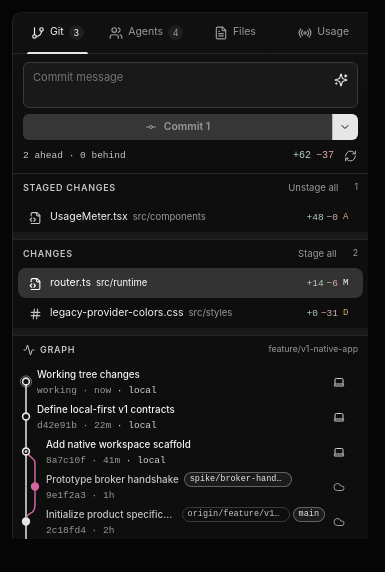
Test case: RightRail › shows every provider-reported Codex plan window without collapsing them
Click the tab "Usage" at (324, 32), box [279,12,368,53]
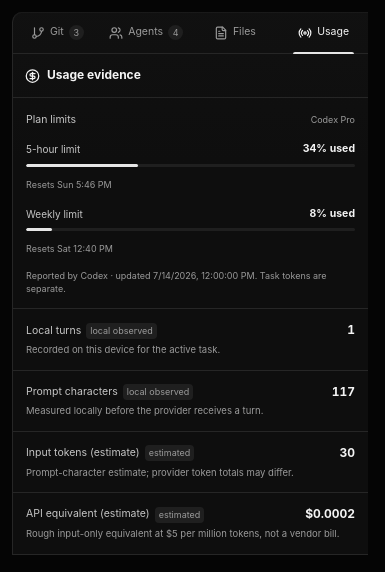
Check: the text "5-hour limit" is shown, box [26,142,80,157]
Check: the text "Weekly limit" is shown, box [26,207,83,222]
Check: the text "34% used" is shown, box [303,141,355,158]
